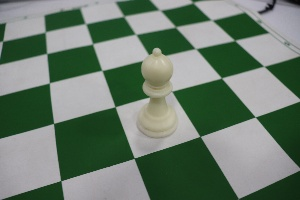white_bishop: (129, 36, 184, 145)
